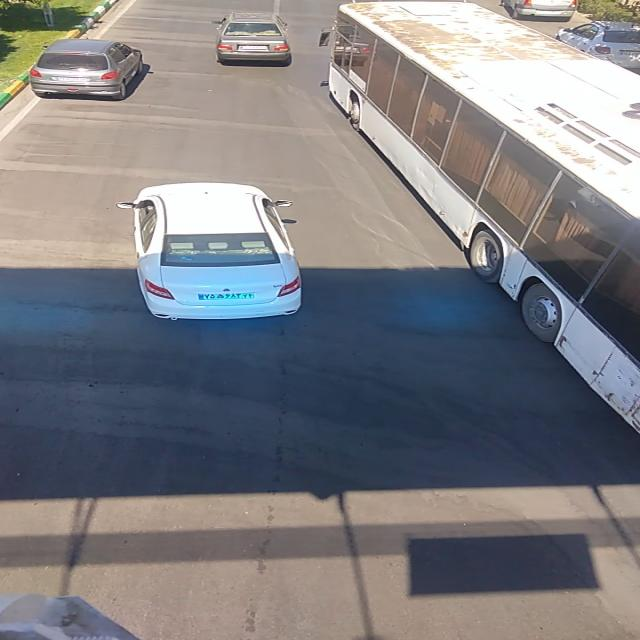bus: (318, 0, 638, 432)
car: (114, 184, 306, 318), (28, 41, 154, 97), (207, 12, 294, 63), (556, 20, 638, 67), (500, 0, 584, 18)
